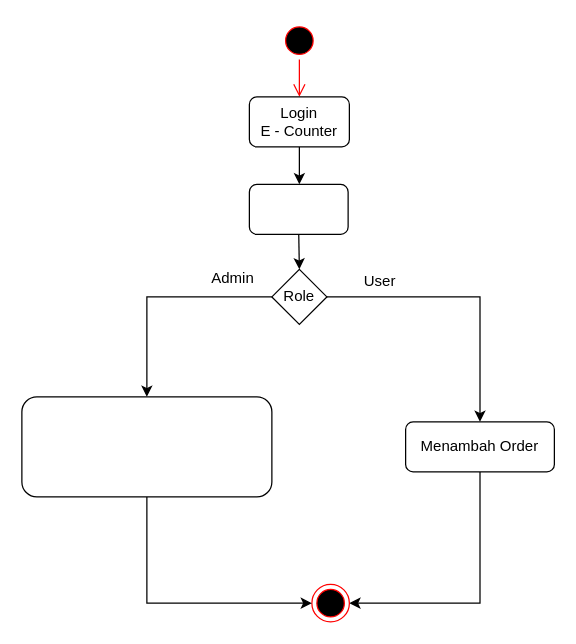
The diagram is 576 pixels wide and 644 high, and some of its shapes have lost their labels. The centre of each missing label's shape, as x and y in pixels:
Cek Role: pixel 298 208
Menambah, Menghapus, Update Harga, Stok, Order, Provider, User, Jenis: pixel 146 446
